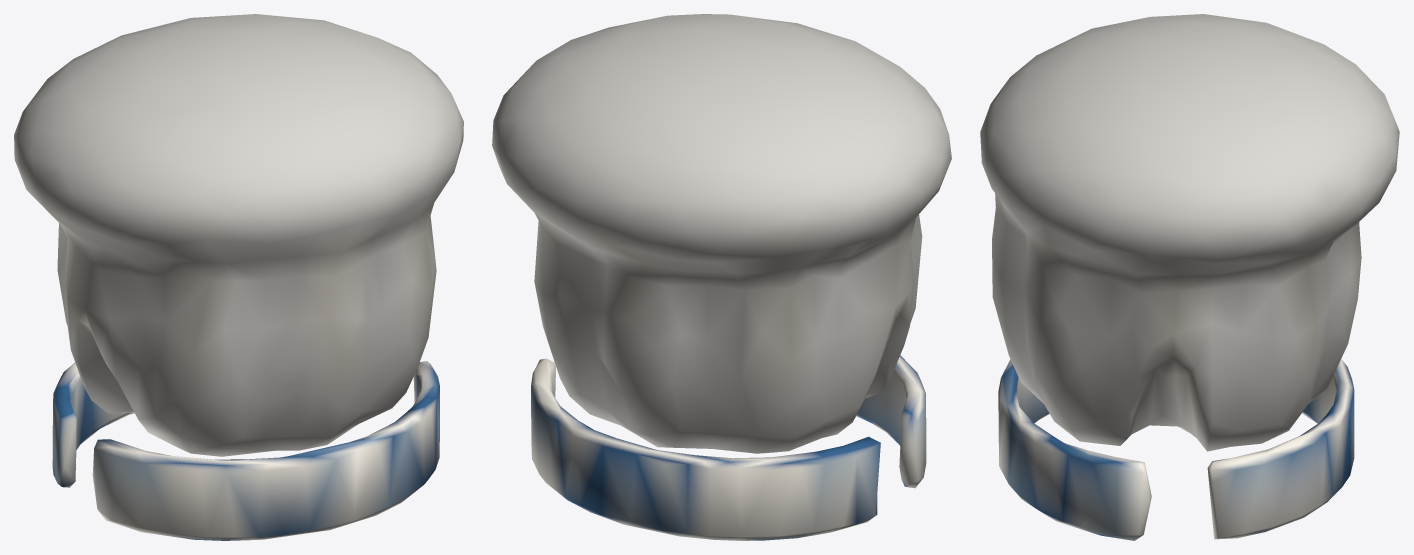
File: mudaubep.glb
3 renders of one model, left to right at view 1: azimuth 30°, elevation 25°; view 2: azimuth 150°, elevation 25°; view 3: azimuth 270°, elevation 25°, orthographic. The views are drawn at different scales.
Parts seen in each view (by area): view 1: Bau_Mu, Bang_Mu; view 2: Bau_Mu, Bang_Mu; view 3: Bau_Mu, Bang_Mu.
Boxes of the visible parts, x1,y1,x2,y2 form: Bau_Mu: (14,14,463,456); Bang_Mu: (52,361,439,540); Bau_Mu: (492,14,951,453); Bang_Mu: (531,355,926,540); Bau_Mu: (980,14,1399,451); Bang_Mu: (998,359,1354,540).
Bounding box in the file's own units: 0.2005 × 0.1961 × 0.1839.
